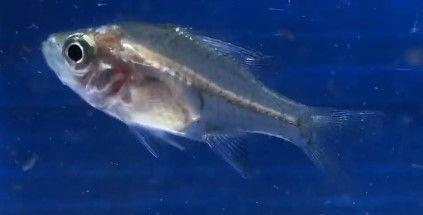Glass Perchlet: (41, 22, 384, 206)
